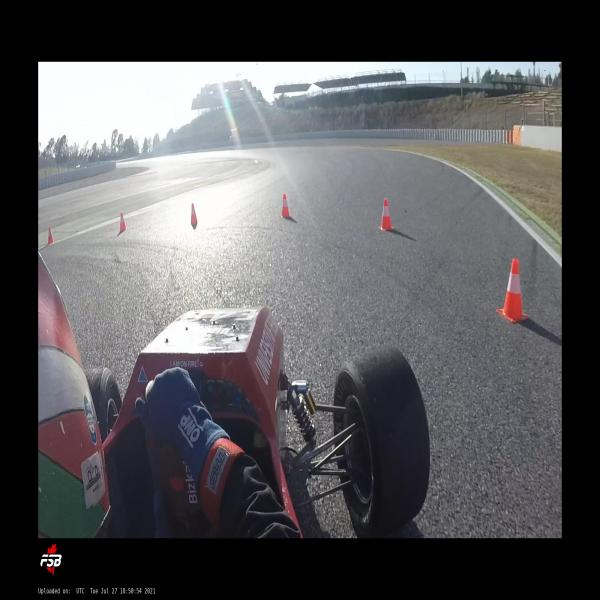orange_cone: (497, 258, 529, 322), (378, 198, 395, 231), (280, 193, 292, 219), (190, 203, 198, 225), (120, 212, 127, 231), (47, 226, 54, 244)
